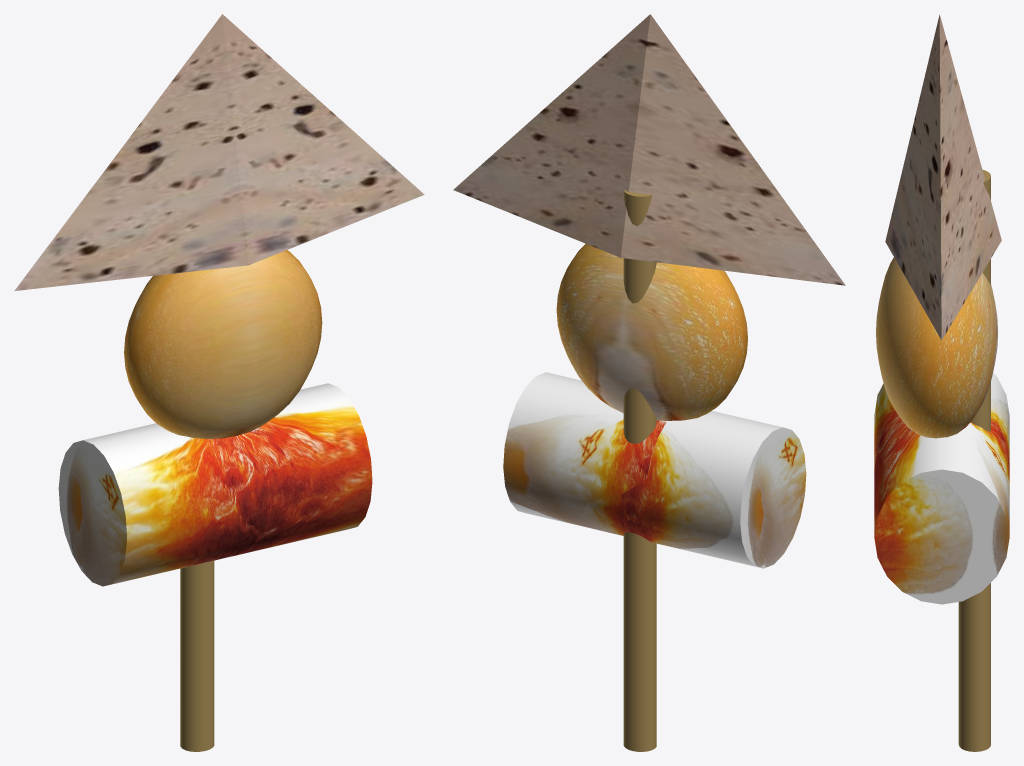
Rendered from Oden.fbx.
The picture shows the model from 3 angles, left to right: view 1: azimuth 30°, elevation 25°; view 2: azimuth 150°, elevation 25°; view 3: azimuth 270°, elevation 25°; orthographic projection. The views are drawn at different scales.
Parts seen in each view (by area): view 1: pPyramid1, pCylinder1, pSphere1, pCylinder2; view 2: pPyramid1, pCylinder1, pSphere1, pCylinder2; view 3: pCylinder1, pPyramid1, pSphere1, pCylinder2.
Part boxes in pixels (bbox=[...]): pPyramid1: bbox=[14, 14, 424, 290]; pCylinder1: bbox=[58, 383, 372, 586]; pSphere1: bbox=[124, 250, 322, 438]; pCylinder2: bbox=[180, 561, 214, 751]; pPyramid1: bbox=[453, 14, 845, 285]; pCylinder1: bbox=[503, 372, 806, 568]; pSphere1: bbox=[556, 244, 747, 420]; pCylinder2: bbox=[623, 190, 656, 751]; pCylinder1: bbox=[874, 373, 1009, 604]; pPyramid1: bbox=[885, 14, 1001, 340]; pSphere1: bbox=[876, 257, 997, 438]; pCylinder2: bbox=[958, 169, 990, 751].
Size of the model in its own units: 2.6 by 4.51 by 0.754.
Materials: 2 (1 with a texture image).
